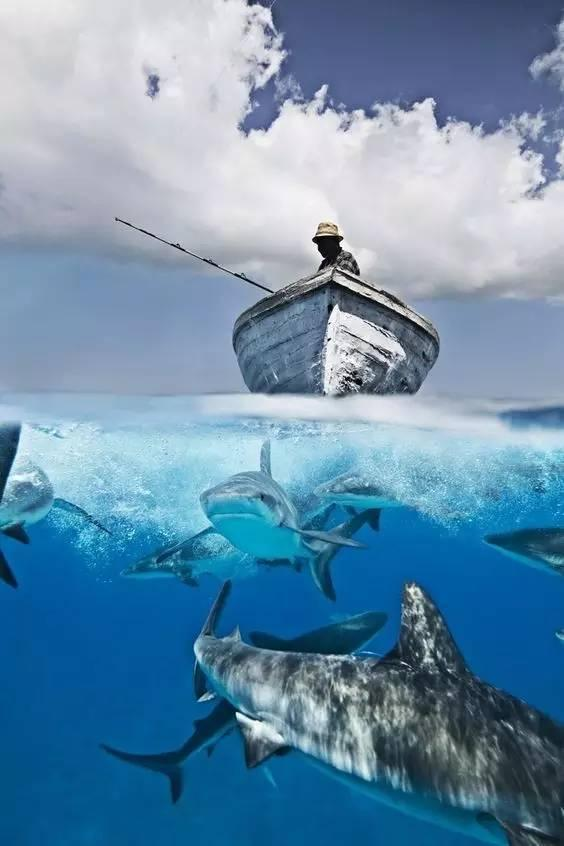fish: (185, 582, 564, 840), (128, 441, 362, 578)
